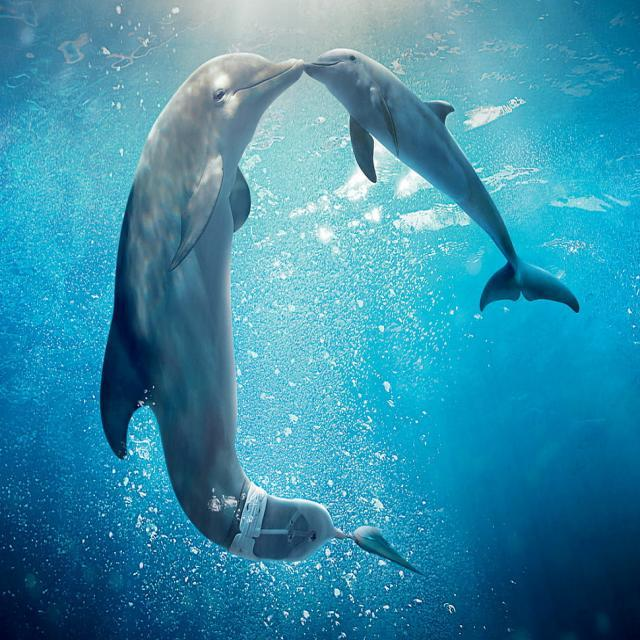dolphin: (46, 31, 306, 620), (308, 19, 586, 343)
